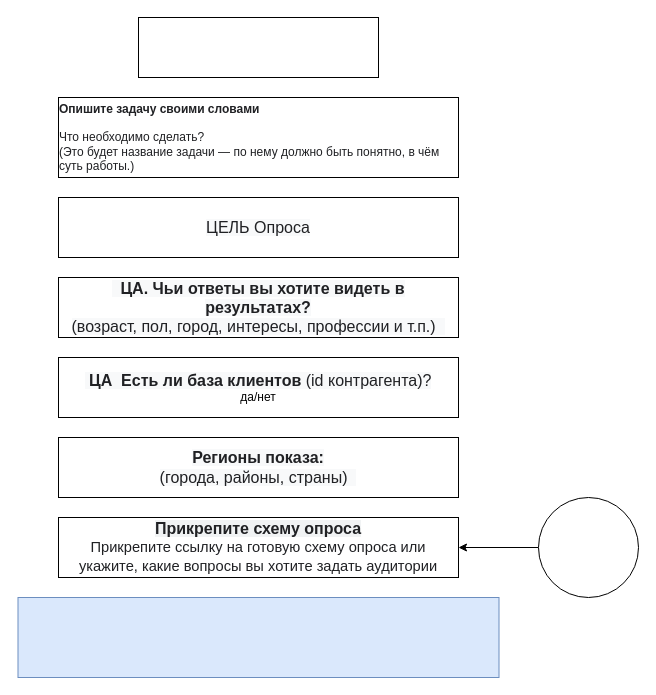
This 656x695 diagram has some shape labels left out. Each missing label, with the centre of its shape:
11. ТЗ на опросы: the point at 258,47
Загрузка файла: the point at 588,547
Укажите желаемую дату реализации задачи.: the point at 258,637
